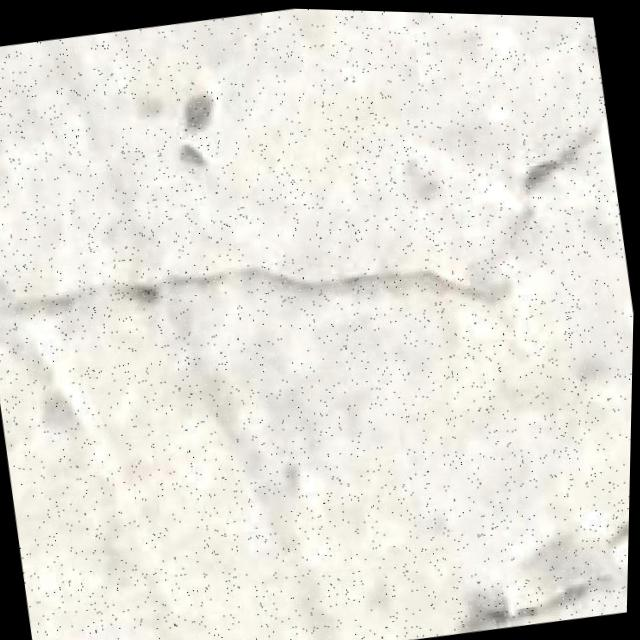Crack: (0, 101, 623, 370)
